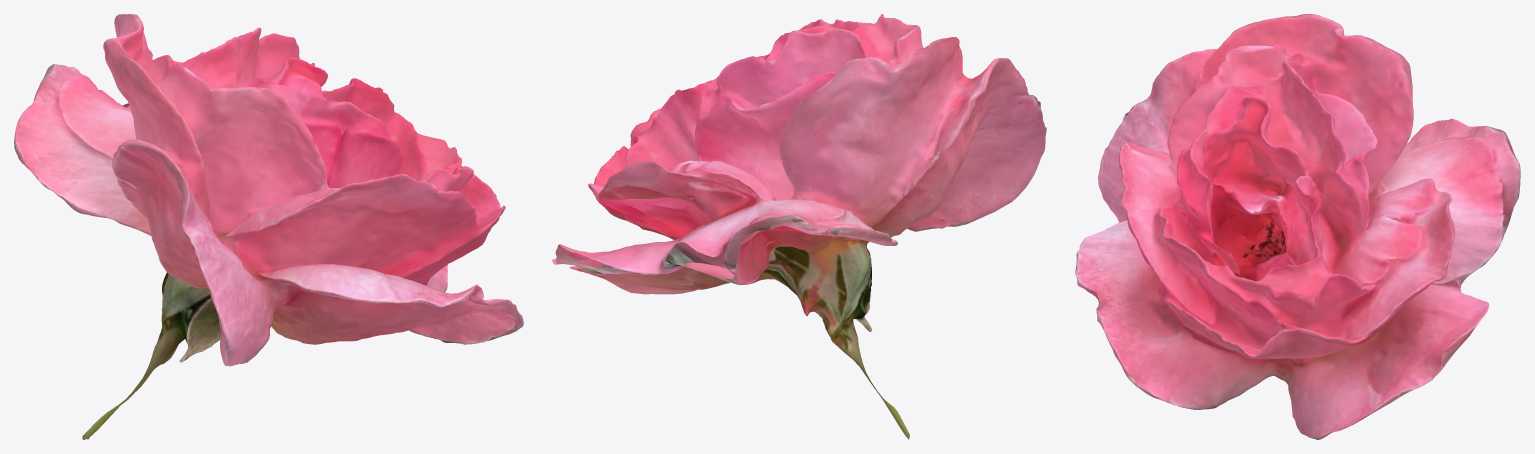
The model's file is pink_rose-transformed.glb.
The picture shows the model from 3 angles, left to right: view 1: azimuth 30°, elevation 25°; view 2: azimuth 150°, elevation 25°; view 3: azimuth 270°, elevation 25°; orthographic projection. The views are drawn at different scales.
Visible parts, largest first — view 1: Object_2; view 2: Object_2; view 3: Object_2.
Boxes of the visible parts, box(x1,y1,x2,y2) form: Object_2: box(14, 14, 523, 439); Object_2: box(552, 14, 1046, 439); Object_2: box(1075, 14, 1520, 439).
Bounding box in the file's own units: 0.0973 × 0.0978 × 0.1117.
Materials: 1 (1 with a texture image).
